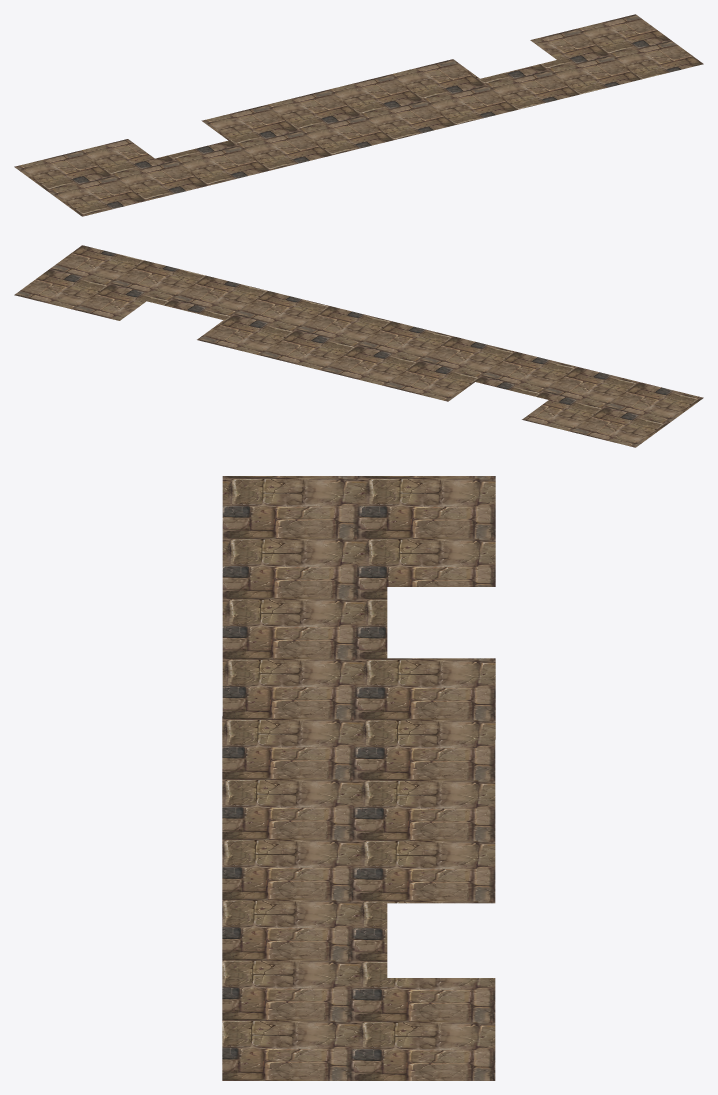
Rendered from A03_battle_floor_c.FBX.
The picture shows the model from 3 angles, top to bottom: view 1: azimuth 30°, elevation 25°; view 2: azimuth 150°, elevation 25°; view 3: azimuth 270°, elevation 25°; orthographic projection. The views are drawn at different scales.
Parts seen in each view (by area): view 1: A03_battle_floor_c; view 2: A03_battle_floor_c; view 3: A03_battle_floor_c.
Boxes of the visible parts, x1,y1,x2,y2 form: A03_battle_floor_c: [14, 14, 703, 216]; A03_battle_floor_c: [14, 245, 703, 447]; A03_battle_floor_c: [222, 476, 495, 1080].
Size of the model in its own units: 35.54 by 0.0513 by 6.76.
